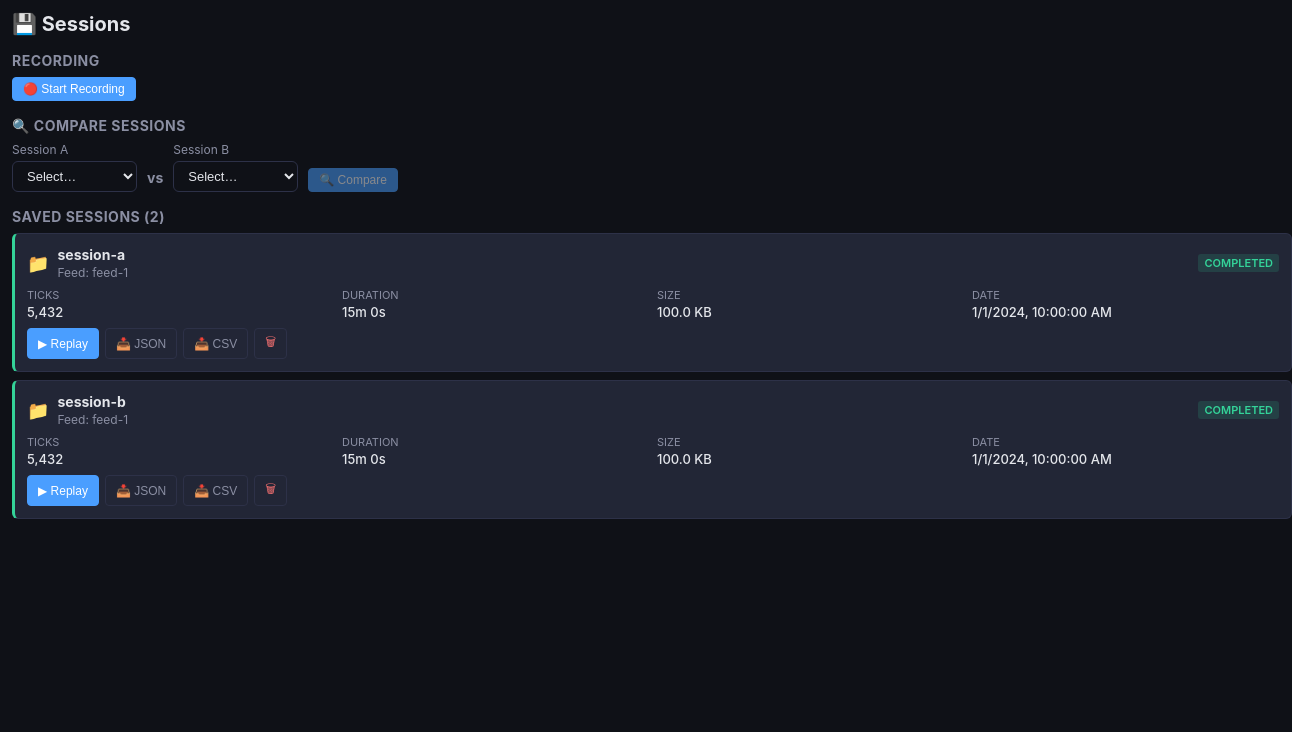
SessionManager › shows compare error message
The width and height of the screenshot is (1292, 732).
Expected: the heading "🔍 Compare Sessions" is shown, x1=12 y1=117 x2=186 y2=134
Select "session-a (#1)" in the dropdown labelled "Session A" at (74, 176), box x1=12 y1=161 x2=137 y2=192
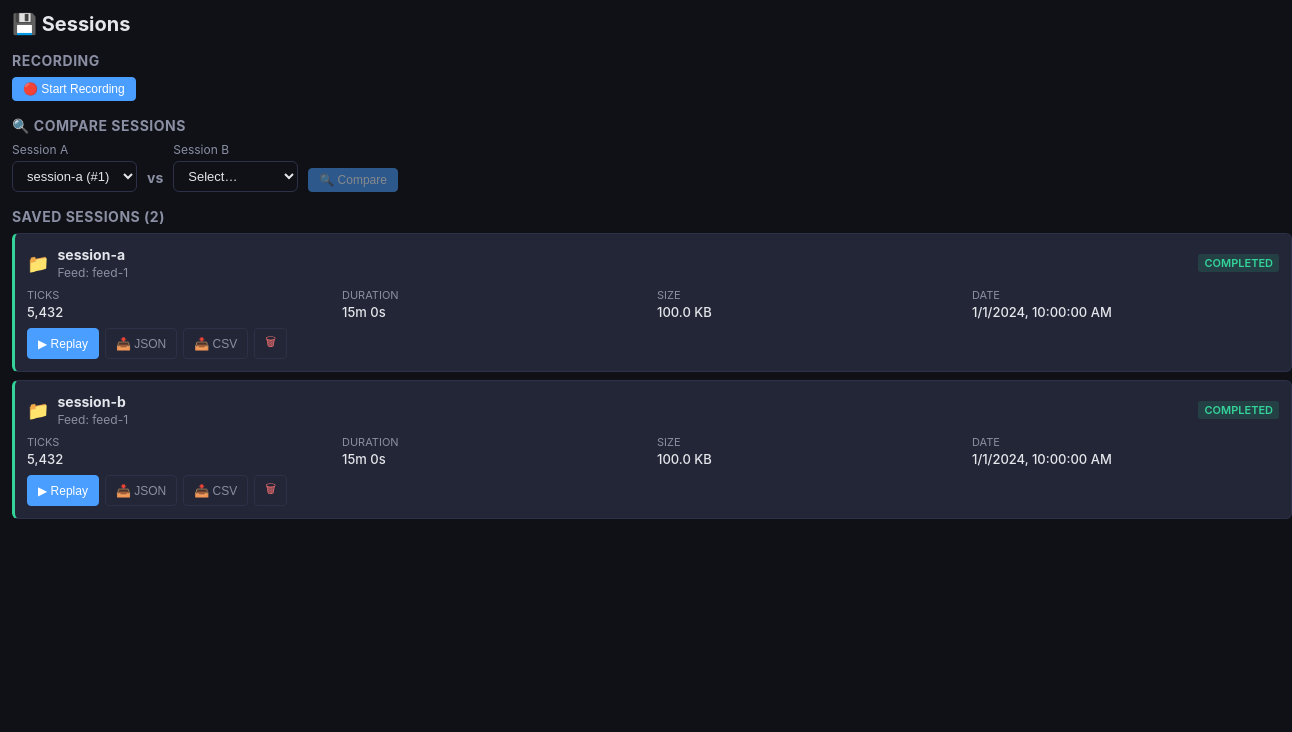
Select "session-b (#2)" in the dropdown labelled "Session B" at (236, 176), box x1=173 y1=161 x2=298 y2=192
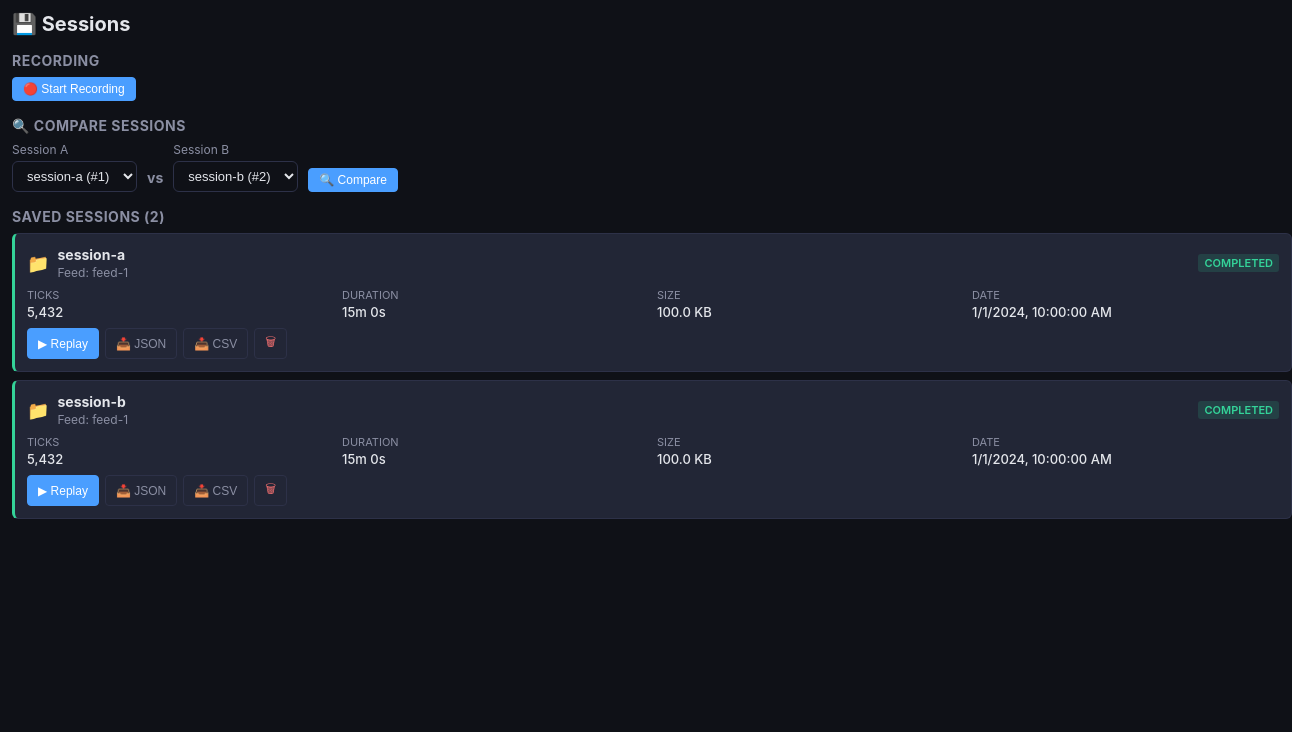
Click the button "🔍 Compare".
click(353, 180)  # box x1=308 y1=168 x2=398 y2=192
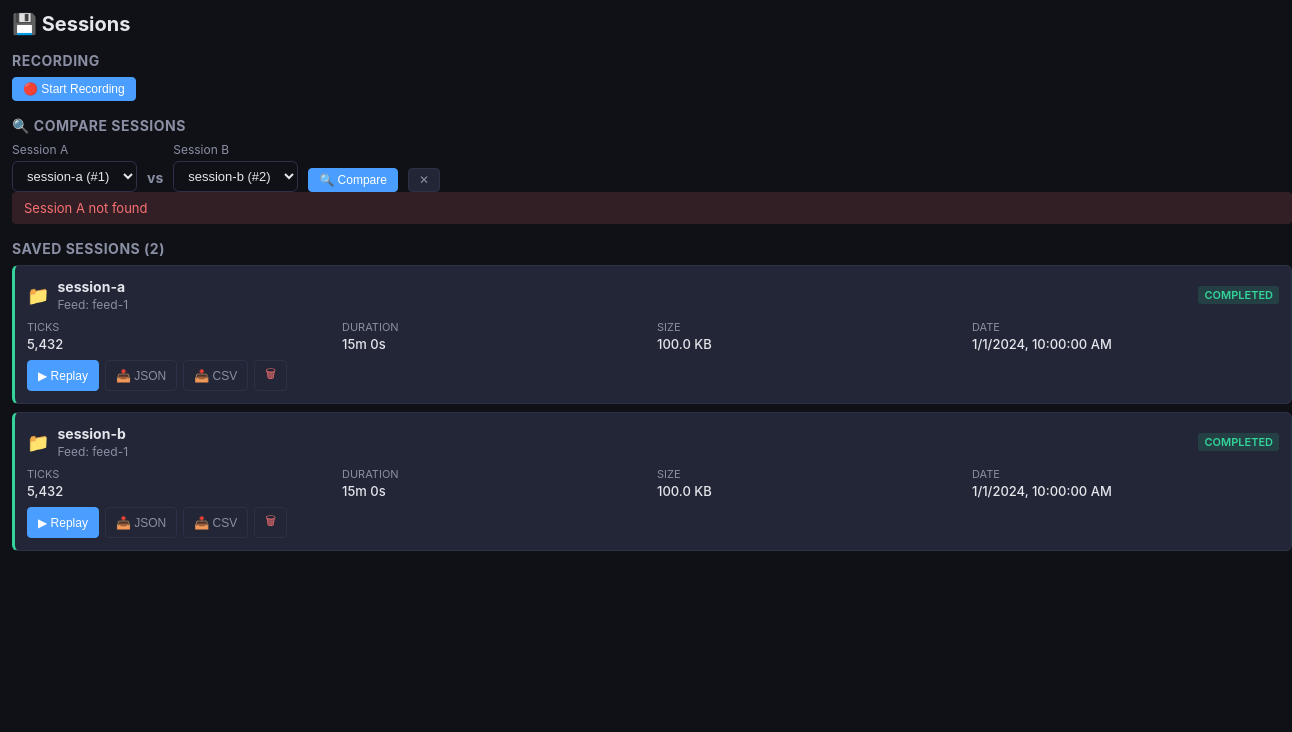
Expected: the text "Session A not found" is shown, x1=12 y1=192 x2=1291 y2=224
